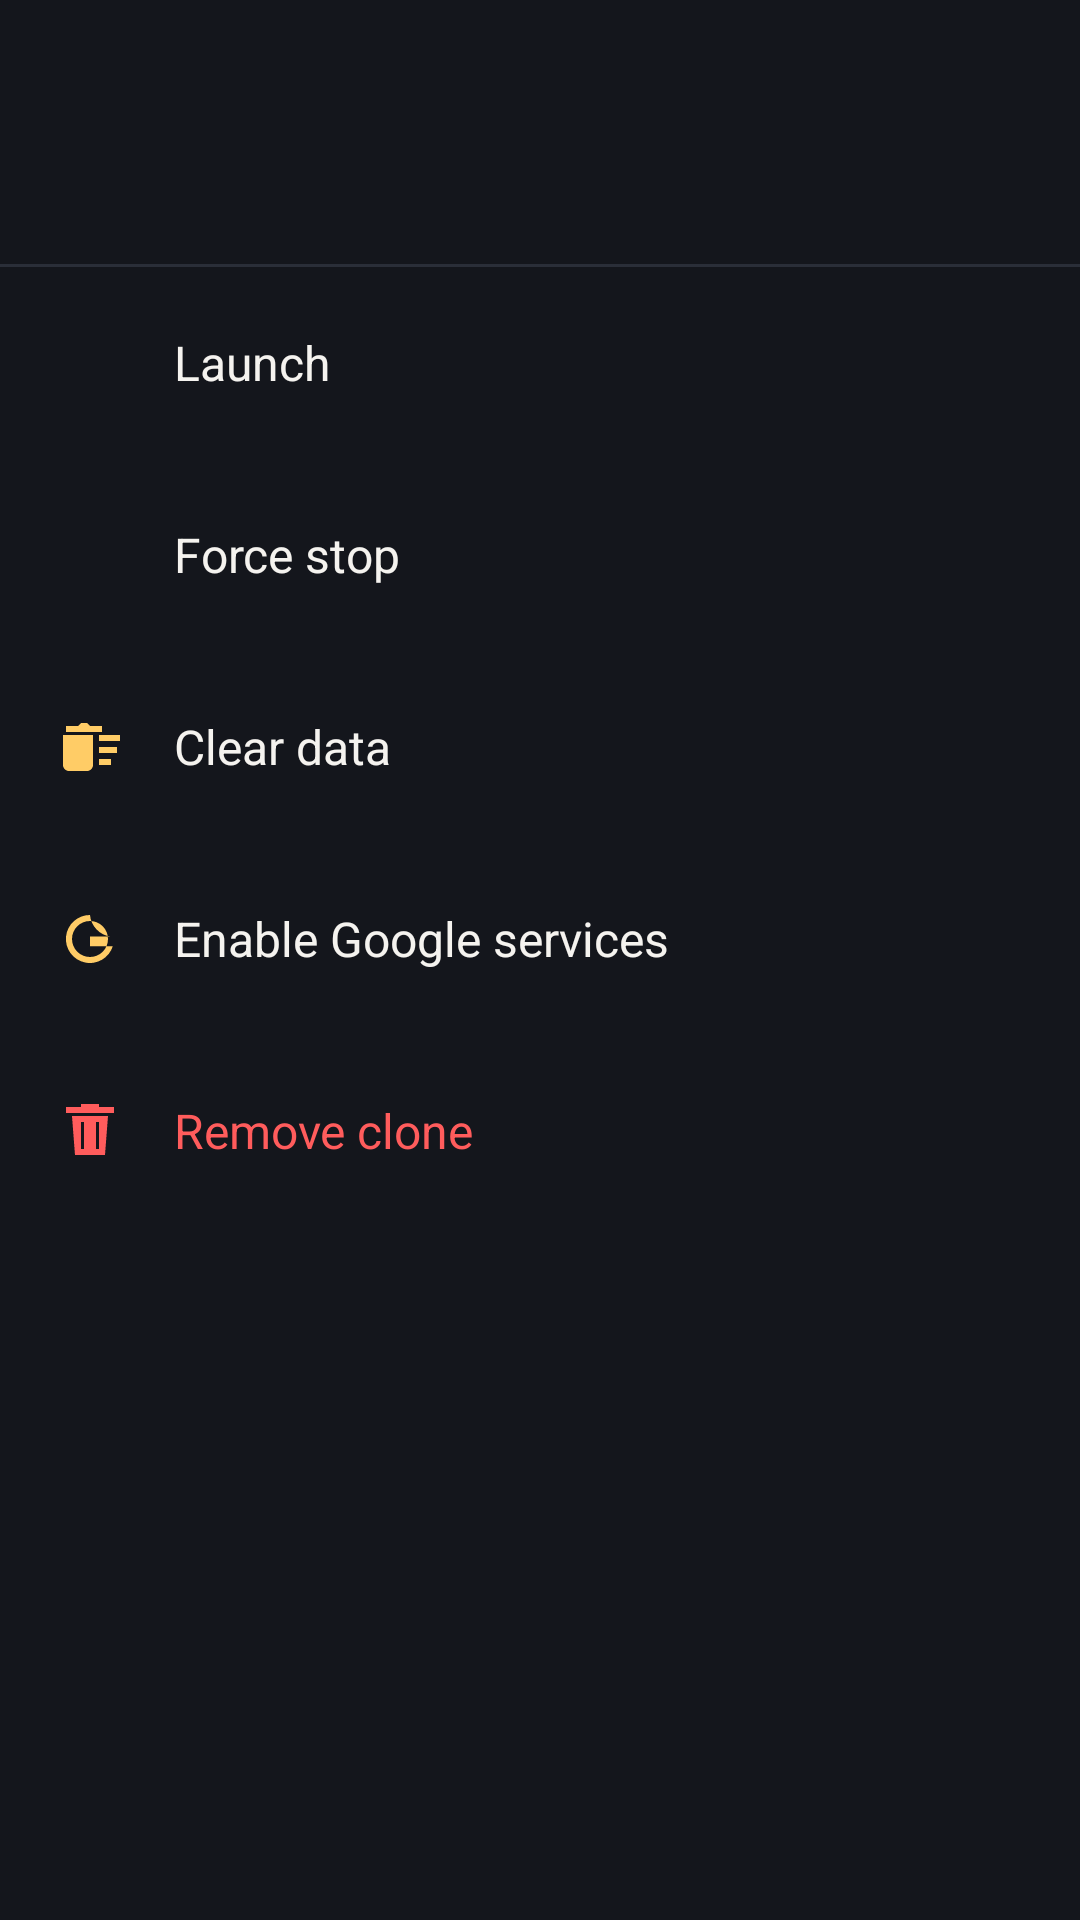

Locate icon controls on the screen. Image size 1080w x 1920h, boxes as (x1, y1, x2, y2).
delete: (66, 1104, 114, 1155)
